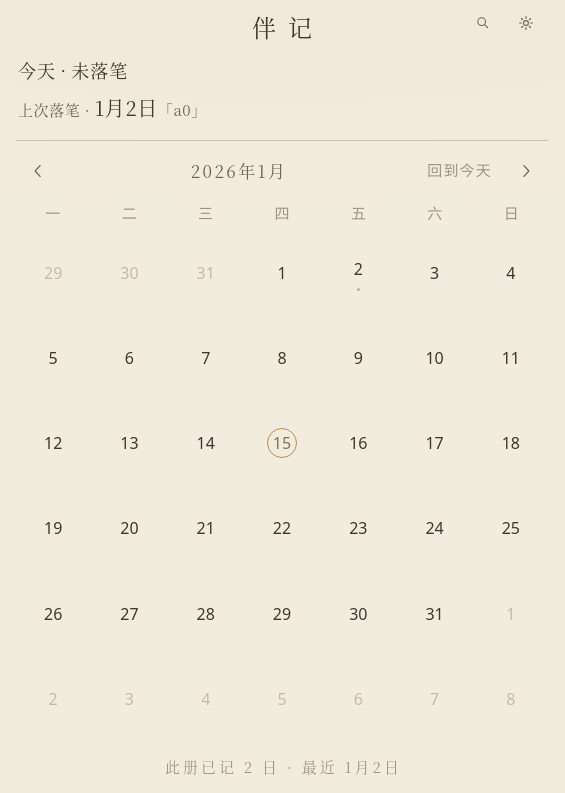
Test case: 首页 V2-Iter2 › 时间账：本月「此册已记 N 日 · 最近 M月D日」；翻到别月追加「· 该月 N 日」
Step 1. Click the button named "上一月" → (38, 171), box [16, 149, 60, 193]
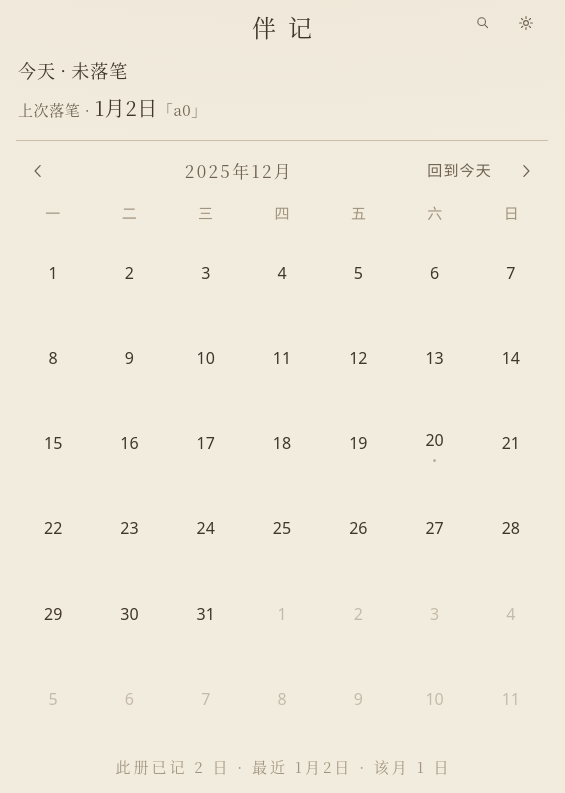
Now the text "此册已记 2 日 · 最近 1月2日 · 该月 1 日" is shown, box [115, 756, 452, 777]
